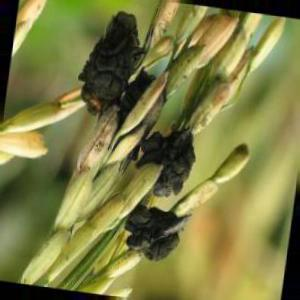Leaf_Scald: (86, 15, 145, 122), (142, 130, 198, 192), (122, 210, 186, 264)
